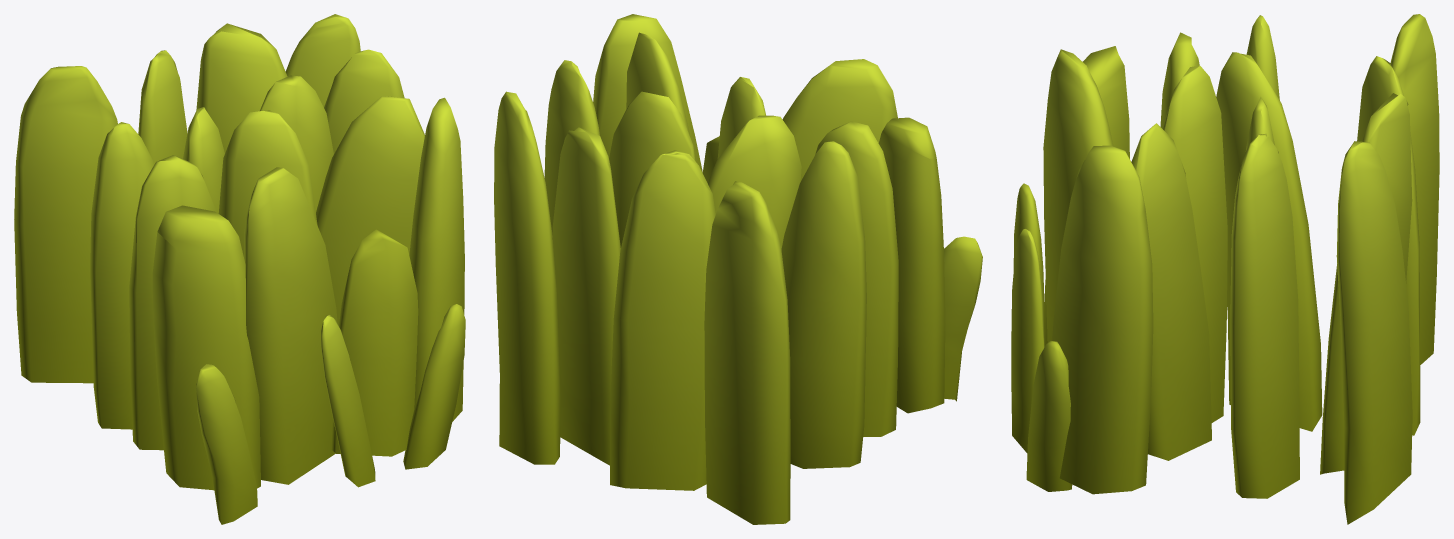
Rendered from Grass3.fbx.
3 renders of one model, left to right at view 1: azimuth 30°, elevation 25°; view 2: azimuth 150°, elevation 25°; view 3: azimuth 270°, elevation 25°, orthographic. The views are drawn at different scales.
Visible parts, largest first — view 1: Grass3; view 2: Grass3; view 3: Grass3.
Boxes of the visible parts, x1,y1,x2,y2 form: Grass3: [14, 14, 465, 524]; Grass3: [494, 14, 982, 524]; Grass3: [1011, 14, 1439, 524].
Size of the model in its own units: 33.98 by 35.03 by 35.92.
